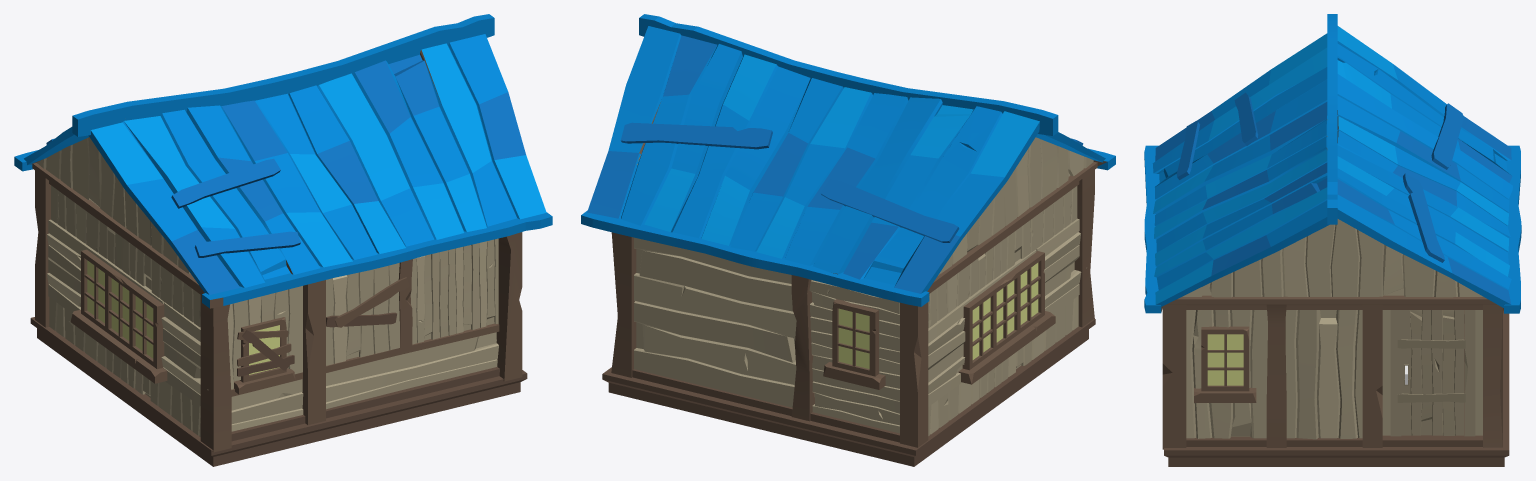
File: bluehouse.fbx
3 views of the same model, side by side, from view 1: azimuth 30°, elevation 25°; view 2: azimuth 150°, elevation 25°; view 3: azimuth 270°, elevation 25° (orthographic). The views are drawn at different scales.
Parts seen in each view (by area): view 1: House_1_Roof.003, House.003; view 2: House_1_Roof.003, House.003; view 3: House_1_Roof.003, House.003.
Boxes of the visible parts, x1,y1,x2,y2 form: House_1_Roof.003: (14, 14, 552, 308); House.003: (30, 170, 527, 466); House_1_Roof.003: (581, 14, 1115, 306); House.003: (602, 170, 1095, 466); House_1_Roof.003: (1144, 14, 1521, 313); House.003: (1162, 304, 1509, 466).
Size of the model in its own units: 573 by 395 by 471.
